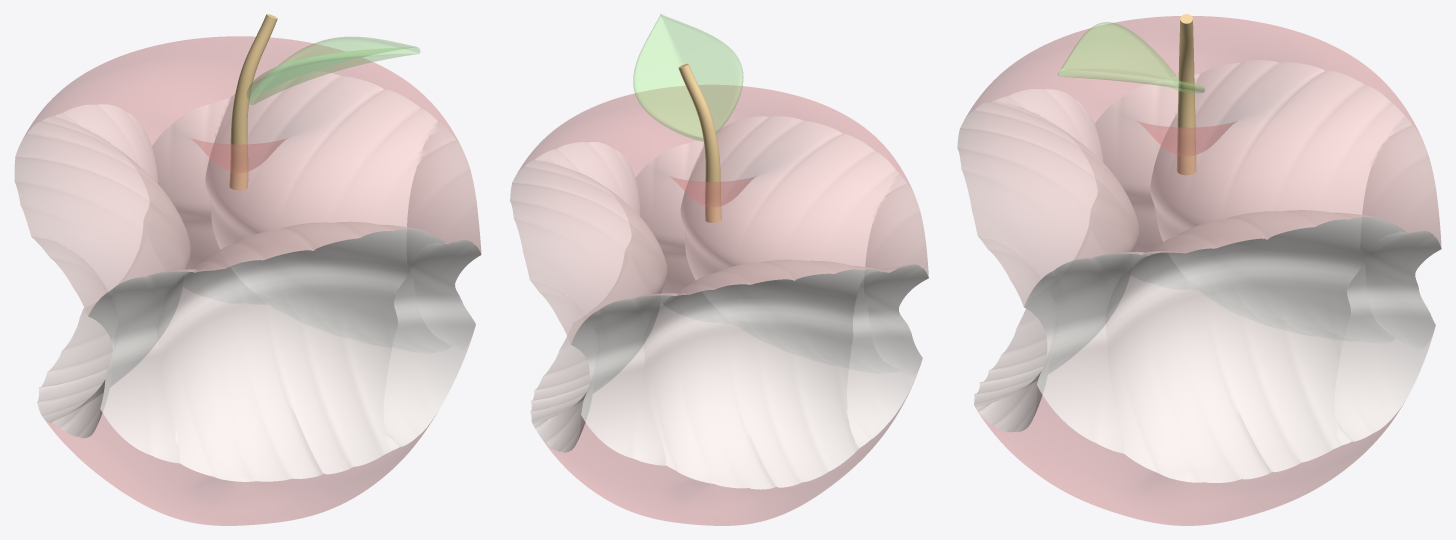
The picture shows the model from 3 angles, left to right: view 1: azimuth 30°, elevation 25°; view 2: azimuth 150°, elevation 25°; view 3: azimuth 270°, elevation 25°; orthographic projection. The views are drawn at different scales.
Visible parts, largest first — view 1: Apple, Leaf, Stem; view 2: Apple, Leaf, Stem; view 3: Apple, Leaf, Stem.
Part boxes in pixels (box(x1,y1,x2,y2)): Apple: box(14, 36, 481, 525); Leaf: box(247, 37, 419, 104); Stem: box(229, 14, 277, 190); Apple: box(510, 85, 928, 525); Leaf: box(633, 14, 743, 141); Stem: box(678, 63, 721, 222); Apple: box(957, 16, 1441, 525); Leaf: box(1058, 22, 1204, 93); Stem: box(1176, 14, 1196, 175).
Size of the model in its own units: 1.91 by 2.15 by 1.92.
